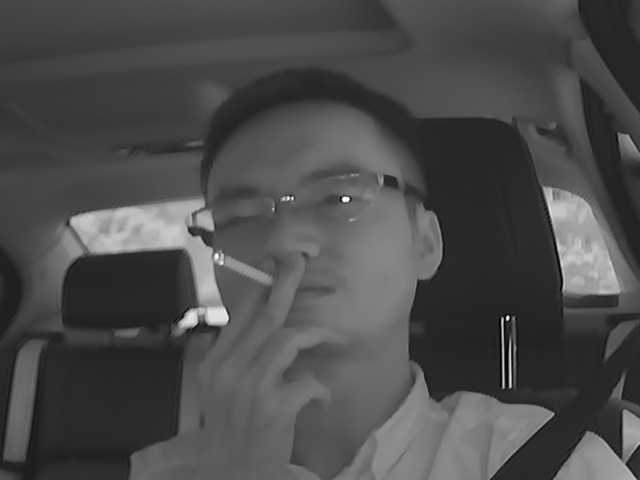hand: (217, 258, 338, 420)
